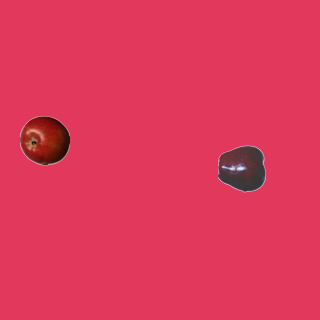Apple Braeburn: (19, 115, 69, 165)
Apple Red Delicious: (217, 143, 267, 193)
